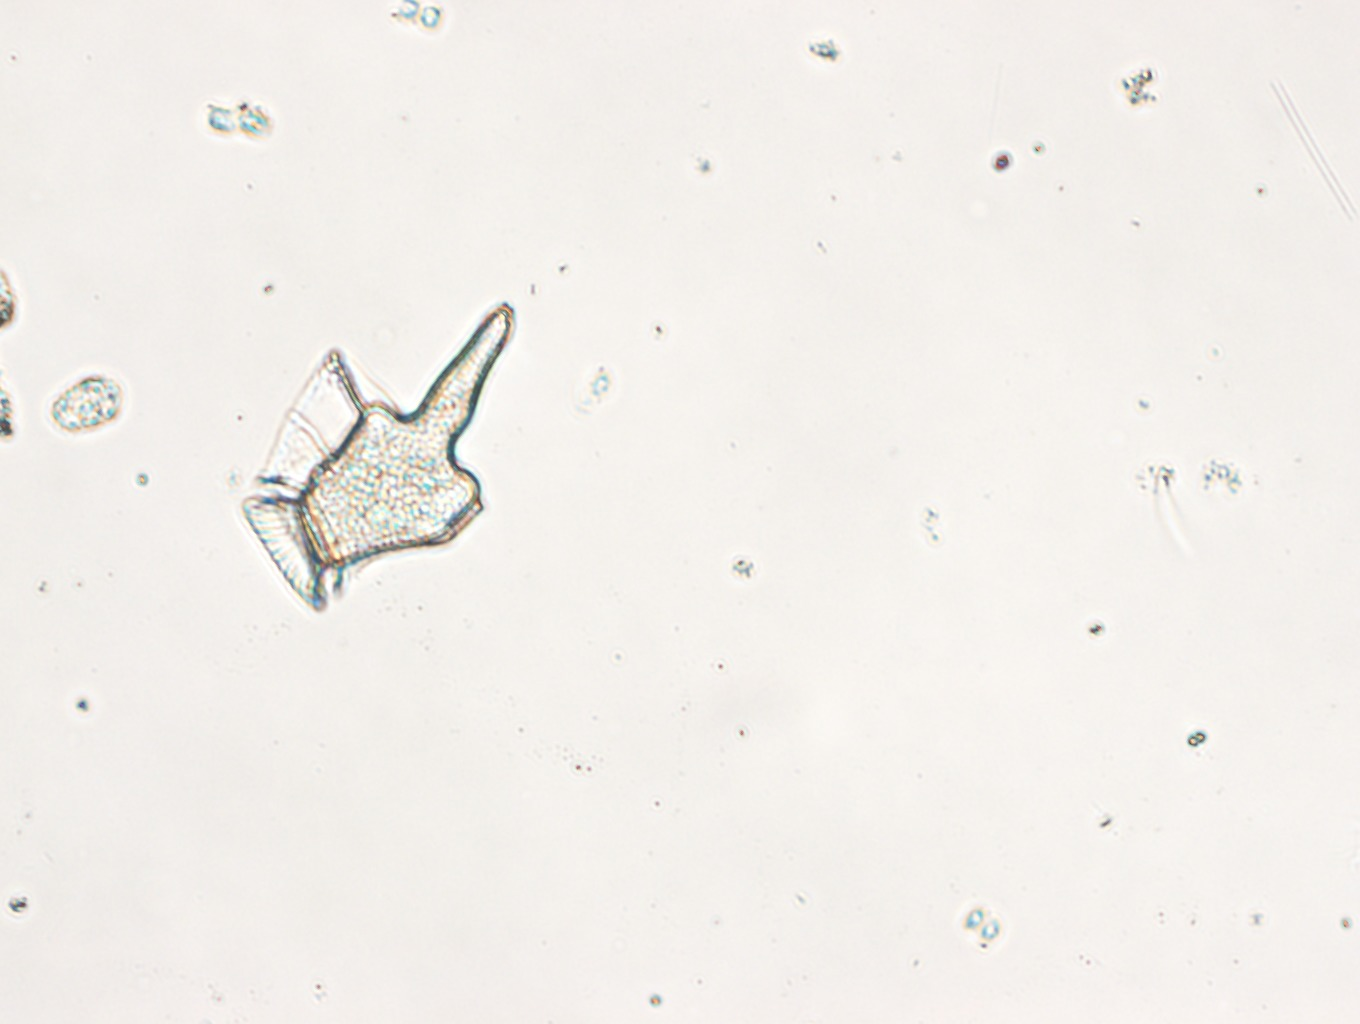dinophysis caudata: (229, 295, 521, 617)
